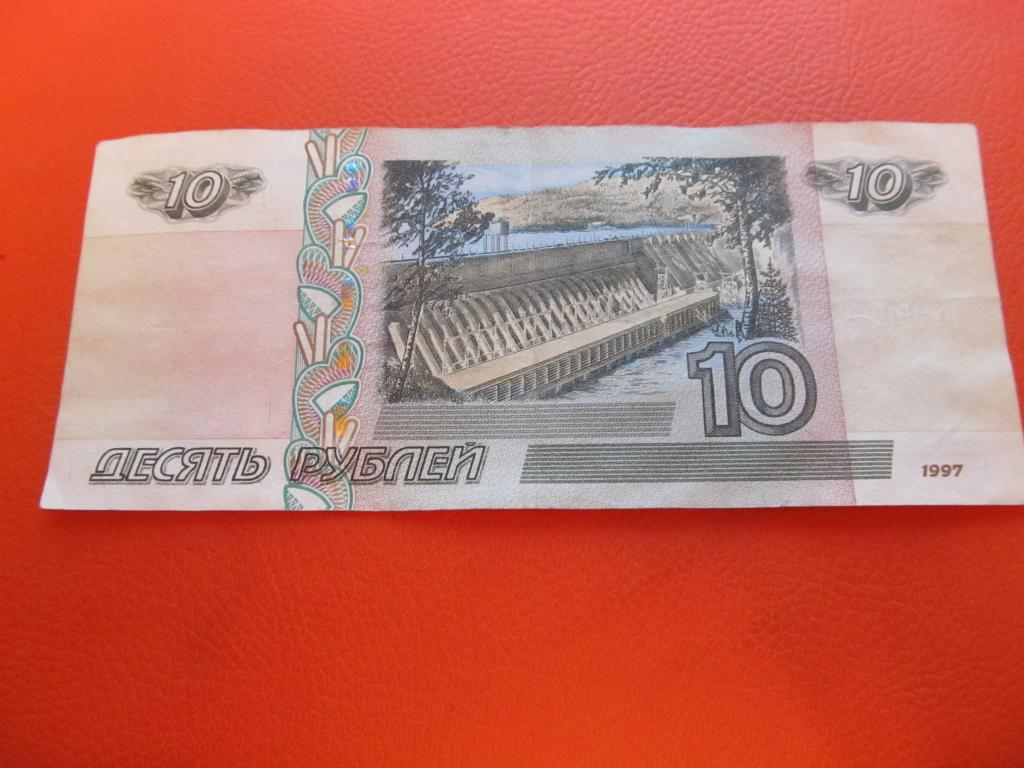cash: (41, 123, 1024, 511)
